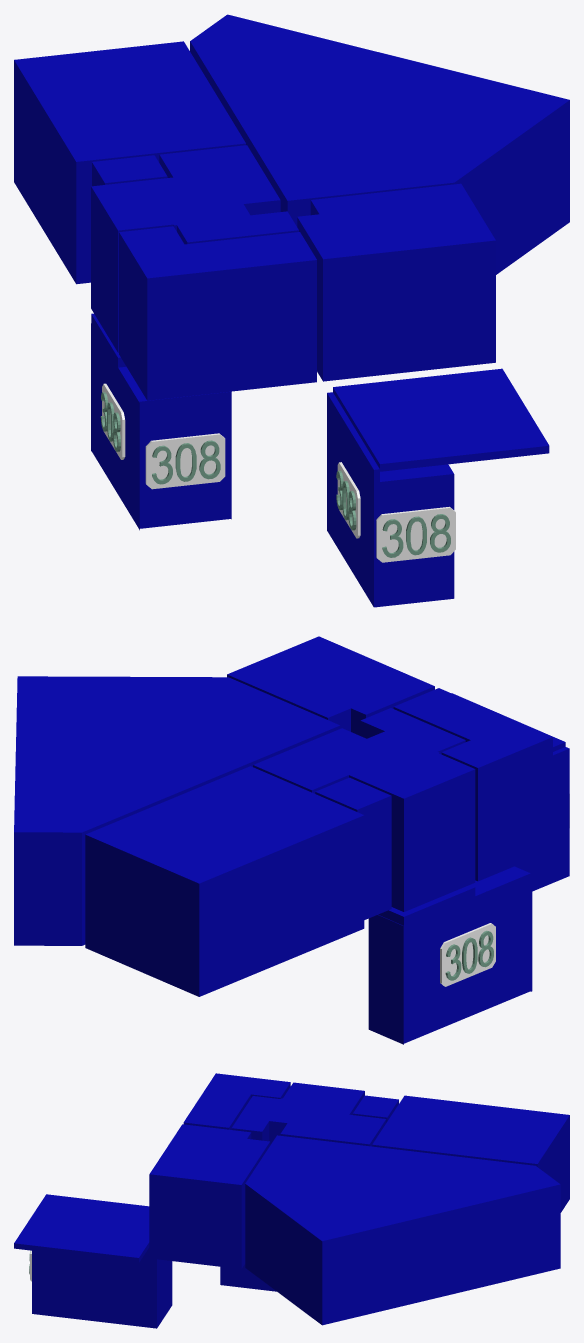
3 views of the same model, one above another, from view 1: azimuth 30°, elevation 25°; view 2: azimuth 150°, elevation 25°; view 3: azimuth 270°, elevation 25° (orthographic). The views are drawn at different scales.
Parts seen in each view (by area): view 1: g_2, g_7, g_6, g_3, g_10, g_0, g_1, g_4, g_8, g_9, g_22, g_14 (+1 smaller); view 2: g_3, g_2, g_6, g_9, g_8, g_7, g_4, g_1, g_5, g_0, g_26; view 3: g_2, g_7, g_3, g_0, g_10, g_4, g_6, g_8, g_1, g_5.
Boxes of the visible parts, left/top/right/bottom form: g_2: left=190, top=14, right=569, bottom=274; g_7: left=297, top=183, right=495, bottom=381; g_6: left=119, top=226, right=316, bottom=400; g_3: left=14, top=41, right=245, bottom=284; g_10: left=333, top=368, right=549, bottom=471; g_0: left=327, top=392, right=454, bottom=607; g_1: left=124, top=377, right=231, bottom=530; g_4: left=149, top=145, right=298, bottom=244; g_8: left=91, top=180, right=172, bottom=352; g_9: left=91, top=313, right=132, bottom=504; g_22: left=145, top=433, right=225, bottom=489; g_14: left=376, top=506, right=455, bottom=562; g_3: left=85, top=766, right=364, bottom=996; g_2: left=14, top=676, right=340, bottom=945; g_6: left=393, top=688, right=552, bottom=881; g_9: left=368, top=882, right=491, bottom=1044; g_8: left=365, top=753, right=475, bottom=911; g_7: left=227, top=636, right=434, bottom=735; g_4: left=253, top=708, right=465, bottom=793; g_1: left=475, top=866, right=532, bottom=1006; g_5: left=315, top=777, right=391, bottom=919; g_0: left=515, top=747, right=569, bottom=891; g_26: left=440, top=923, right=495, bottom=986; g_2: left=245, top=1135, right=560, bottom=1325; g_7: left=149, top=1124, right=270, bottom=1269; g_3: left=372, top=1095, right=569, bottom=1212; g_0: left=32, top=1248, right=172, bottom=1328; g_10: left=14, top=1194, right=149, bottom=1263; g_4: left=231, top=1096, right=386, bottom=1146; g_6: left=183, top=1073, right=290, bottom=1129; g_8: left=283, top=1082, right=364, bottom=1111; g_1: left=220, top=1264, right=276, bottom=1291; g_5: left=353, top=1095, right=398, bottom=1122.
Size of the model in its own units: 10.27 by 5.2 by 14.37.
